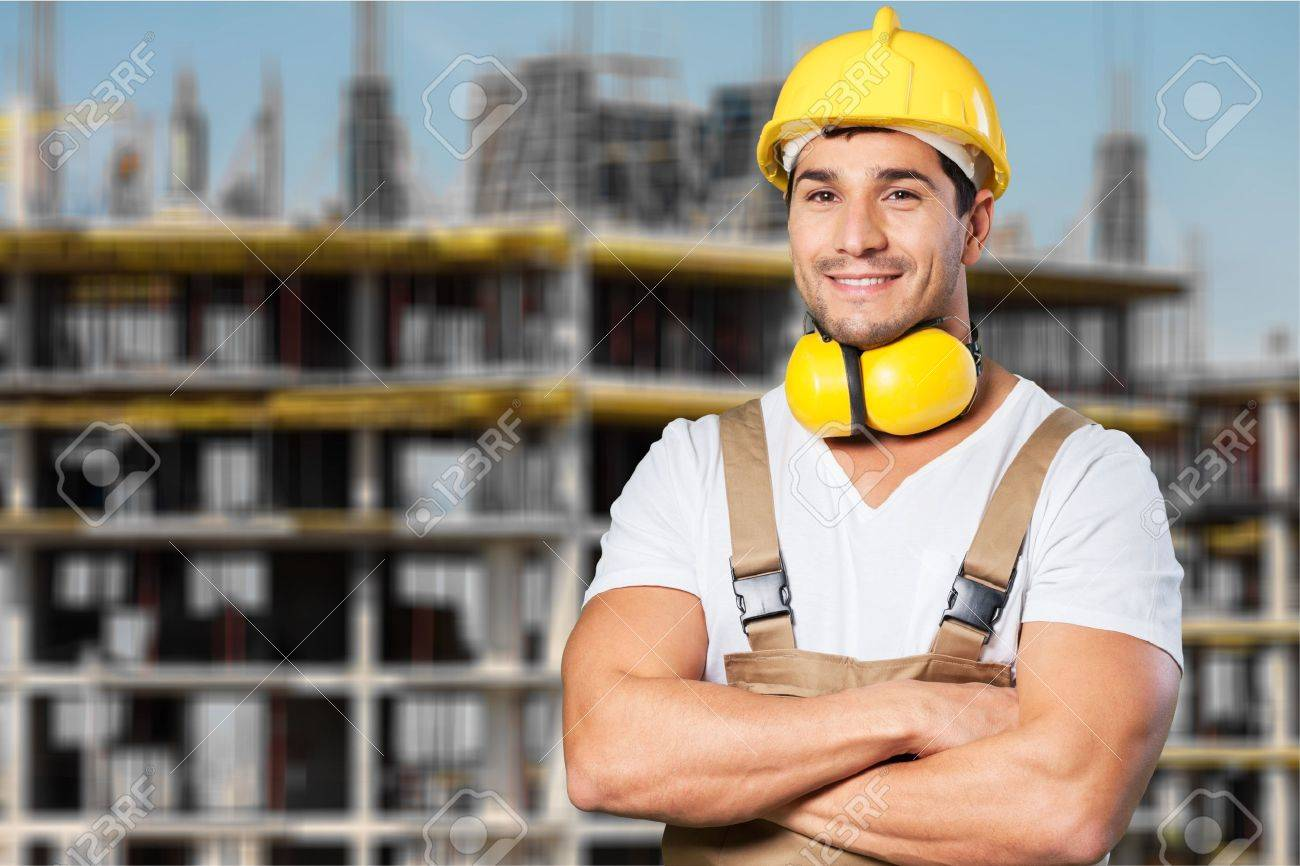casco: (753, 5, 1013, 200)
